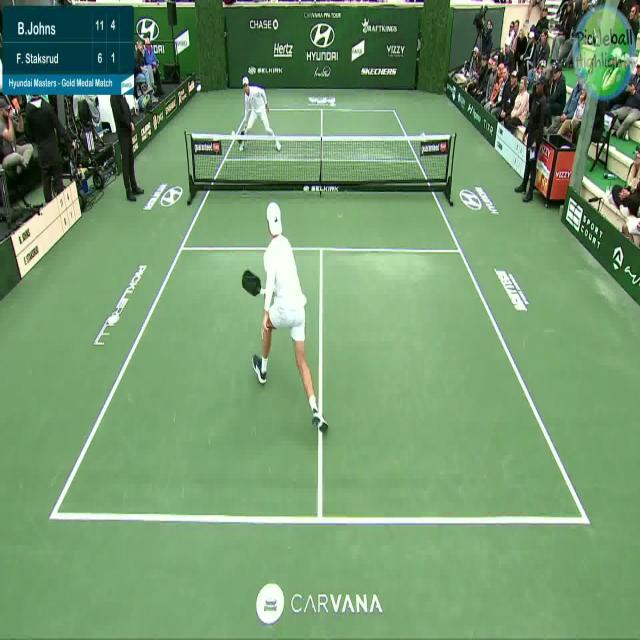ball: (232, 131, 236, 137)
